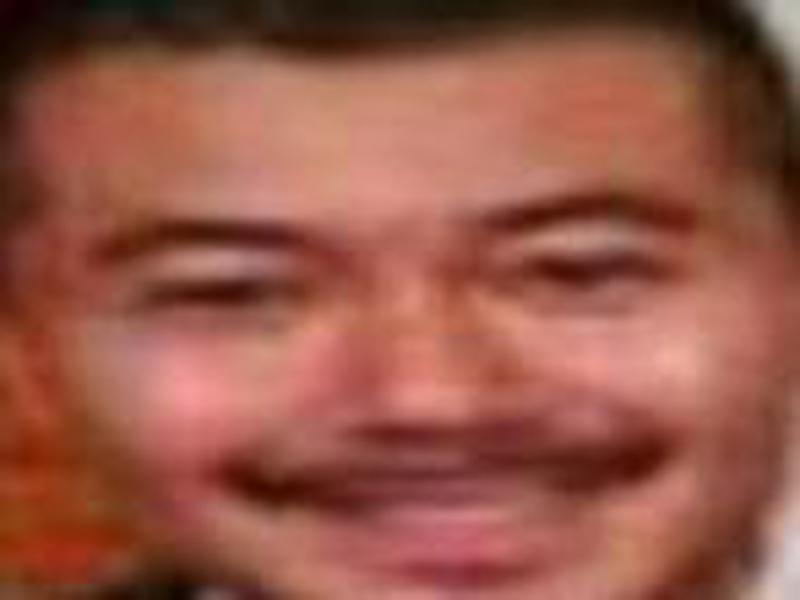without_mask: (14, 19, 789, 593)
